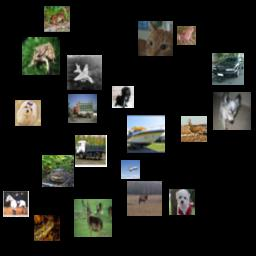airplane: (67, 55, 102, 90), (121, 160, 140, 179)
automobile: (212, 53, 244, 85)
cat: (138, 21, 173, 56)
deer: (74, 199, 112, 237), (127, 181, 162, 216), (181, 116, 207, 142)
dog: (213, 92, 251, 130), (15, 100, 41, 126), (169, 189, 195, 215), (112, 86, 134, 108)
frog: (22, 37, 60, 75), (42, 155, 74, 187), (44, 6, 70, 32), (34, 215, 60, 241), (177, 26, 196, 45)
ship: (127, 115, 165, 153)
truck: (75, 135, 107, 167), (68, 94, 97, 123)
